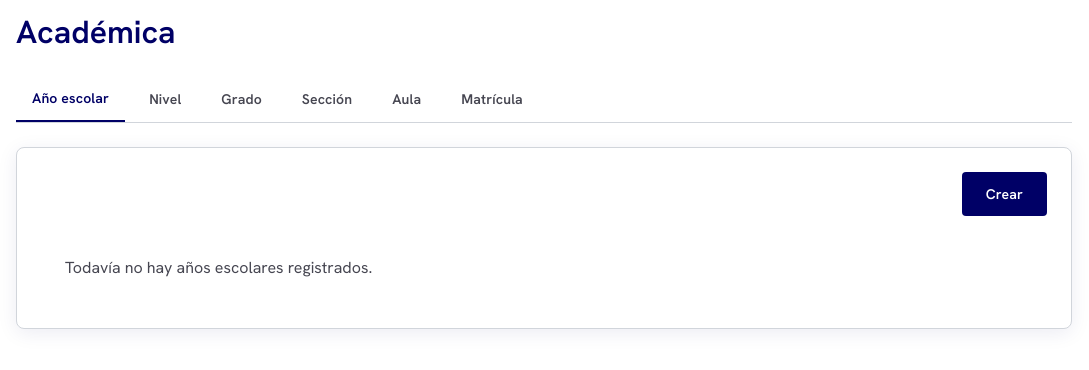
AcademicaPage › [17.5] hacer click en la pestaña "Aula" renderiza su panel y desmonta el de Años
Click the tab "Aula": (407, 99) [376,76,437,122]
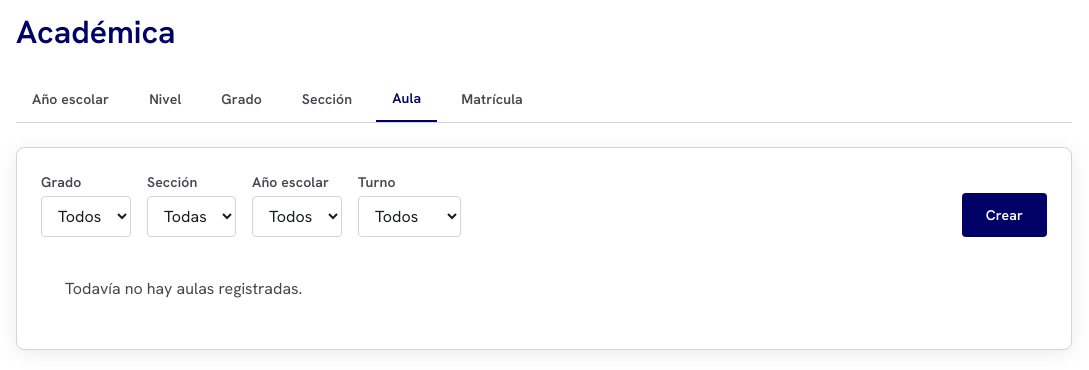
Result: the text "Todavía no hay aulas registradas." is shown at [65,278,302,299]
Result: the text "Todavía no hay años escolares registrados." is gone
